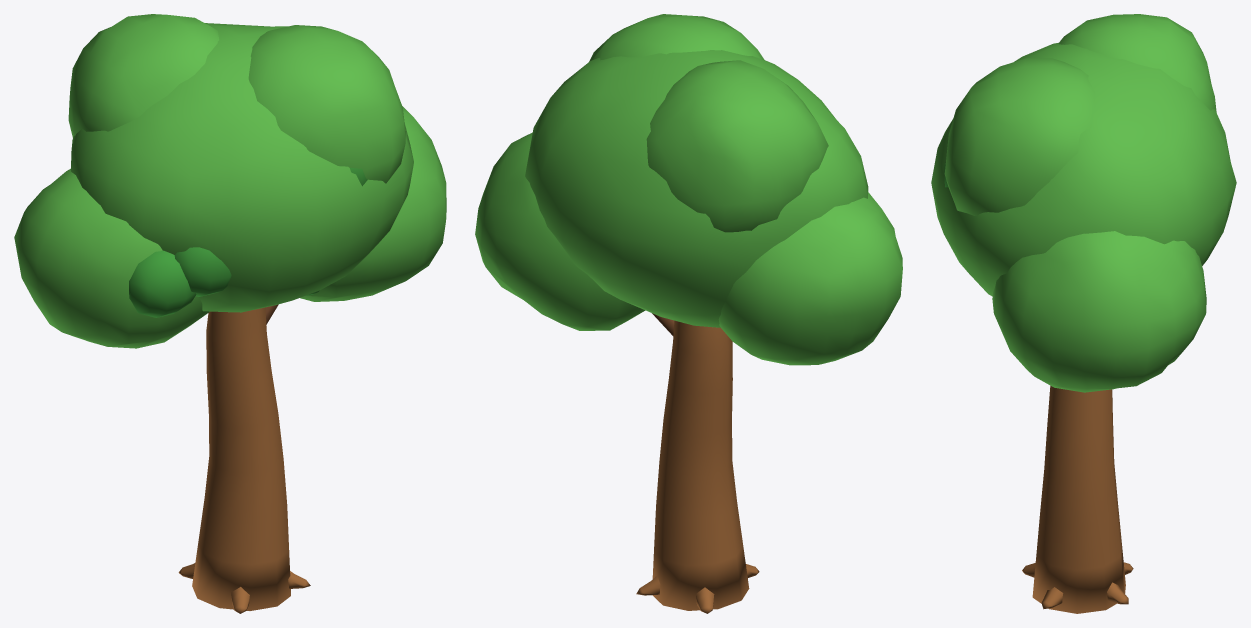
The model's file is tree_round.glb.
The picture shows the model from 3 angles, left to right: view 1: azimuth 30°, elevation 25°; view 2: azimuth 150°, elevation 25°; view 3: azimuth 270°, elevation 25°; orthographic projection. The views are drawn at different scales.
Parts seen in each view (by area): view 1: tree_round; view 2: tree_round; view 3: tree_round.
Part boxes in pixels (x1,y1,x2,y2): tree_round: (14, 14, 446, 613); tree_round: (475, 14, 902, 613); tree_round: (931, 14, 1236, 613).
Bounding box in the file's own units: 3.42 × 4.49 × 2.27.
